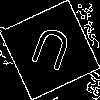U: (25, 25, 75, 81)
